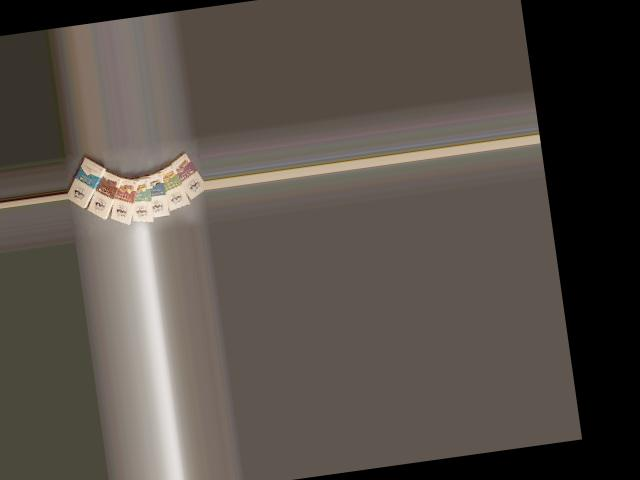chocolate: (63, 151, 111, 212)
